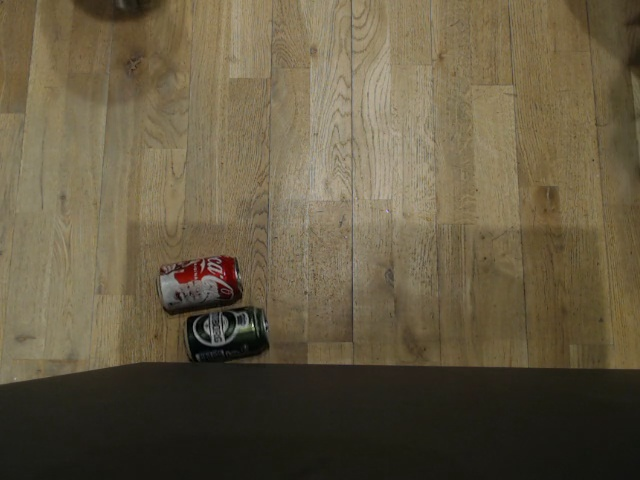beer: (179, 296, 272, 369)
cola: (152, 250, 247, 315)
